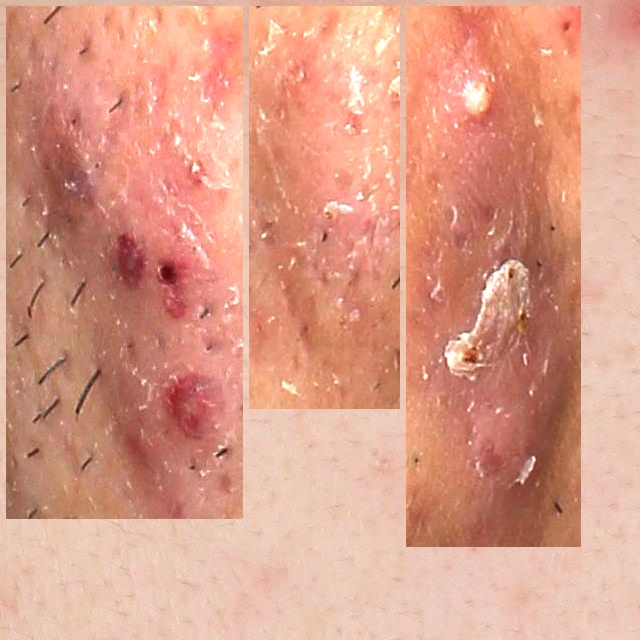nodule: (14, 14, 235, 511), (414, 14, 573, 539), (257, 14, 392, 401)
